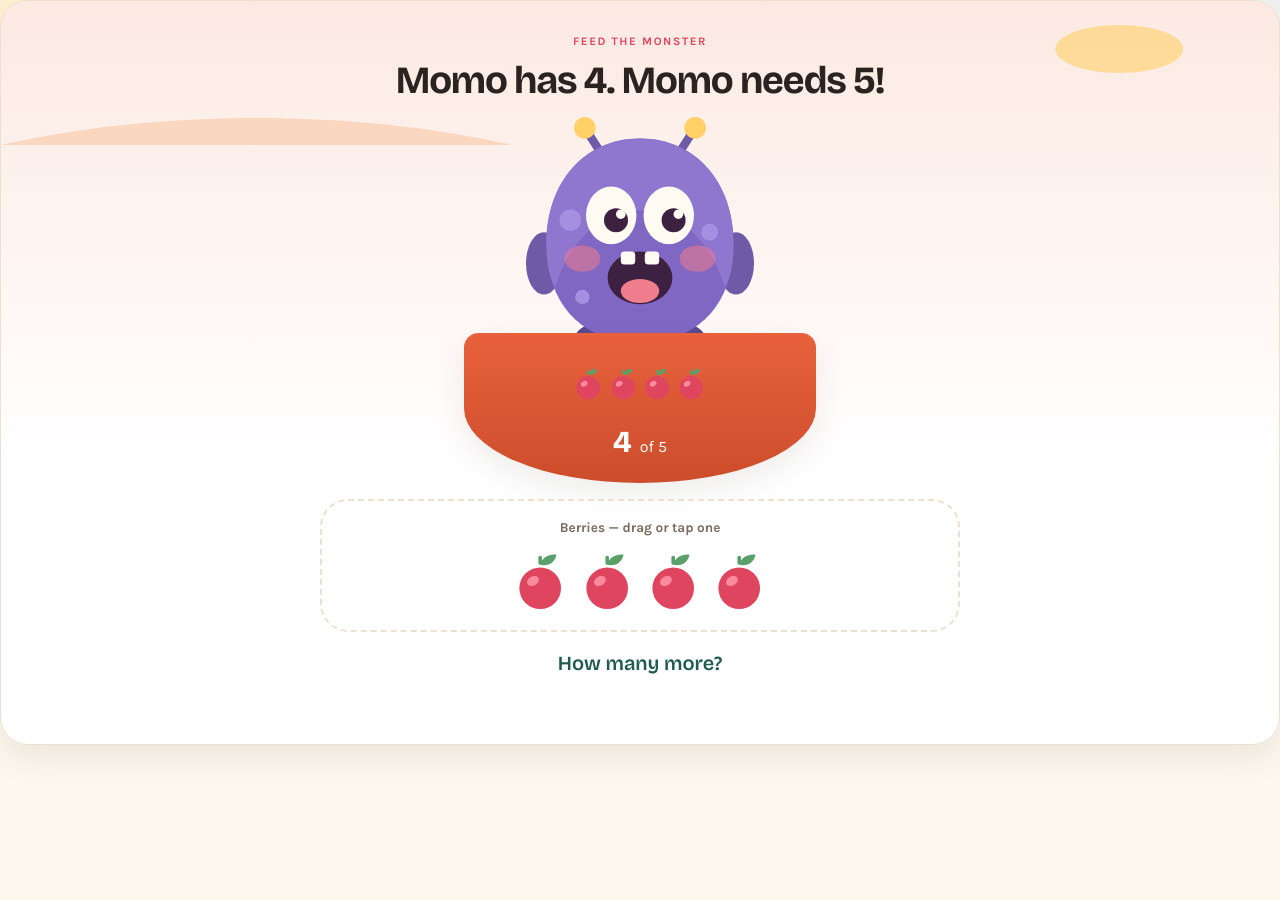
Scenario: Feed the Monster › lets a child overfill and says something kind about it
The width and height of the screenshot is (1280, 900).
Press the mouse on the 1st button with class "tray-item" at (540,582), box [513,550,568,614]
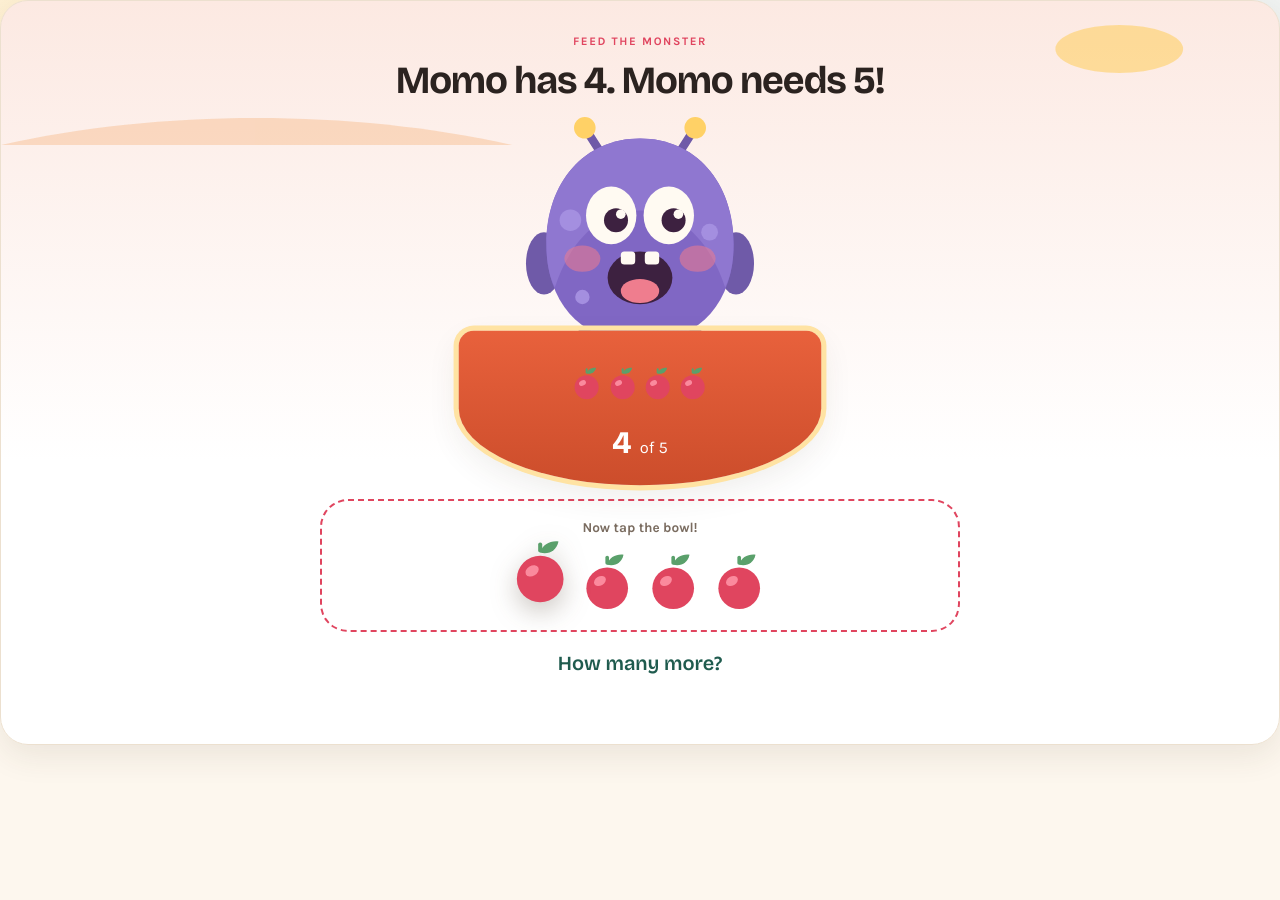
Click the button "4 of 5" at (640,408), box [459,331,821,485]
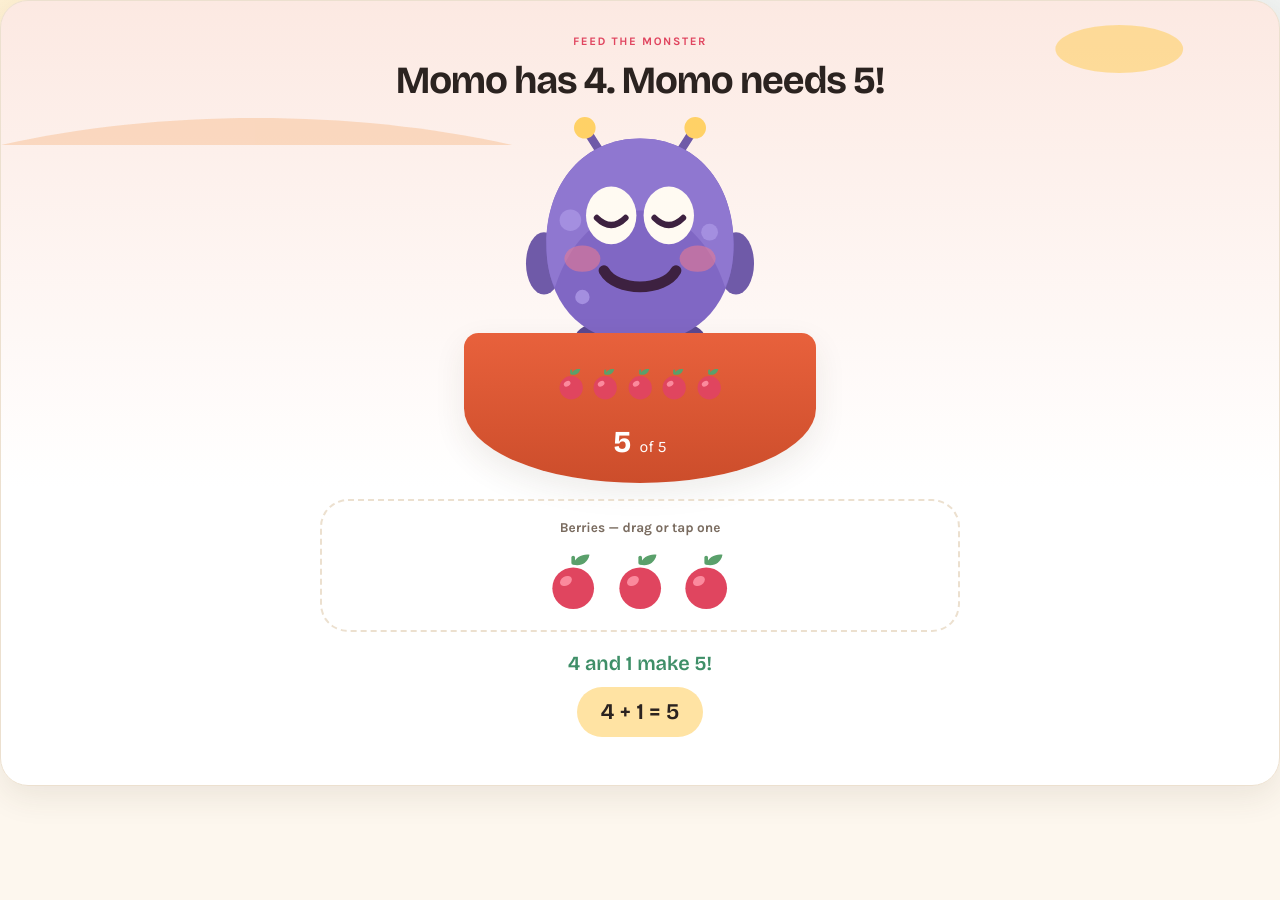
Press the mouse on the 1st button with class "tray-item" at (574,582), box [546,550,601,614]
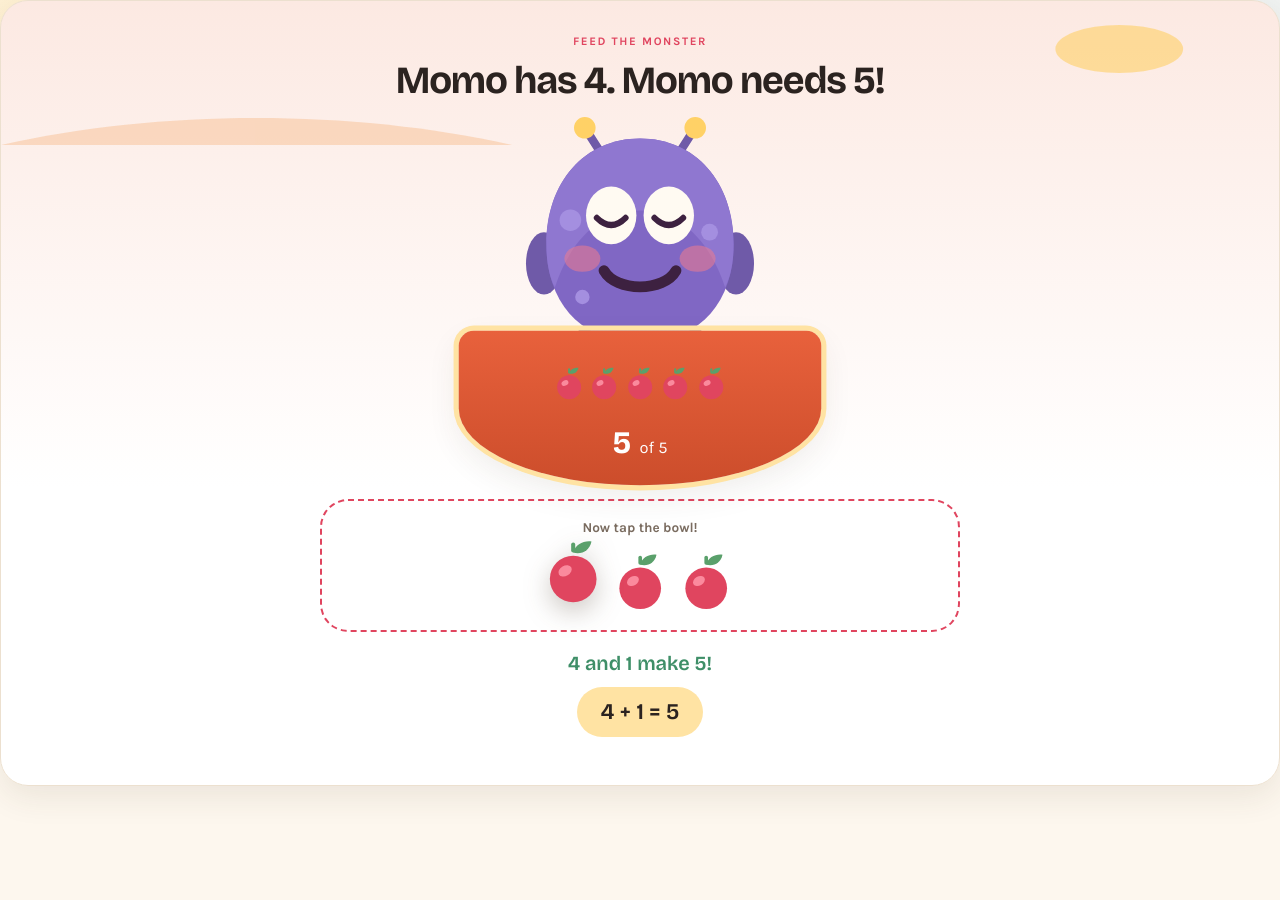
Click the button "5 of 5" at (640,408), box [459,331,821,485]
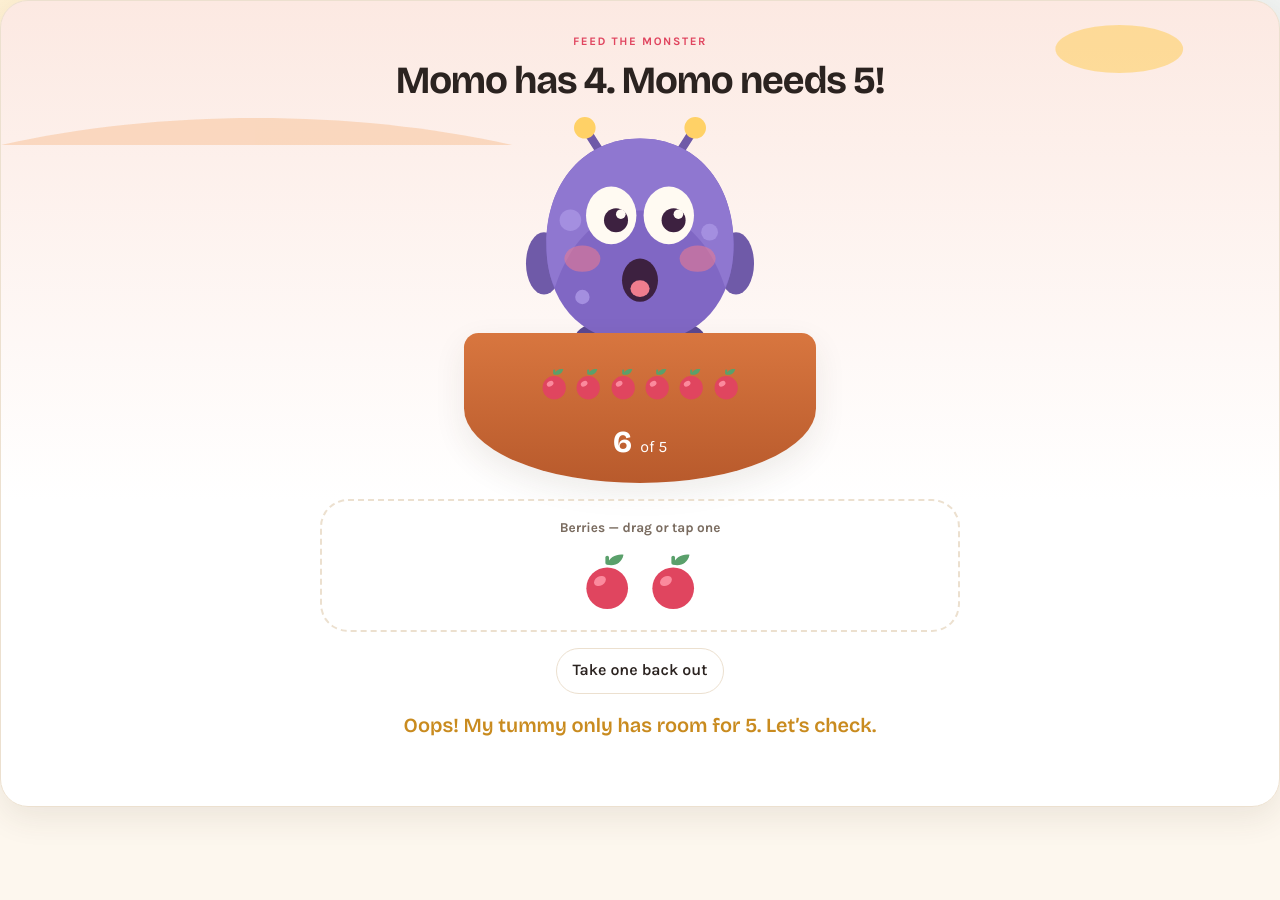
expect the text "Oops! My tummy only has room for 5. Let’s check." is shown: met, box [404,713,876,737]
